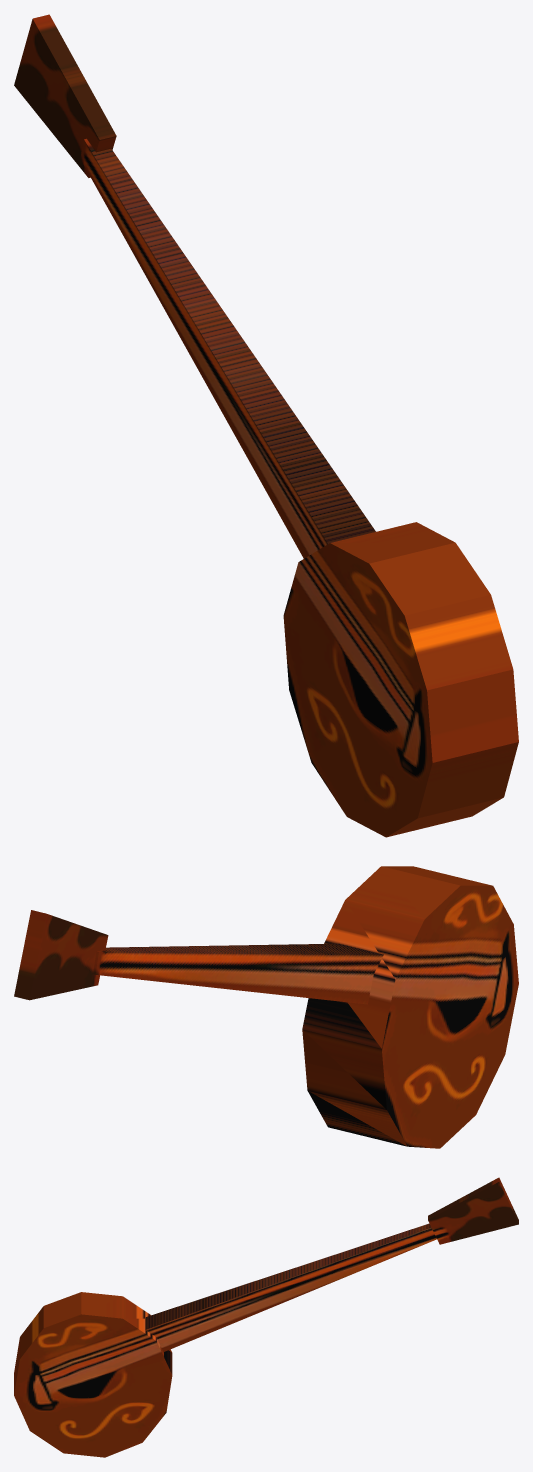
The model's file is mandolin.glb.
3 views of the same model, one above another, from view 1: azimuth 30°, elevation 25°; view 2: azimuth 150°, elevation 25°; view 3: azimuth 270°, elevation 25° (orthographic). The views are drawn at different scales.
Parts seen in each view (by area): view 1: mandolin; view 2: mandolin; view 3: mandolin.
Part boxes in pixels (left/top/right/bottom): mandolin: left=14, top=14, right=518, bottom=837; mandolin: left=14, top=866, right=518, bottom=1148; mandolin: left=14, top=1177, right=518, bottom=1457.
Size of the model in its own units: 10.31 by 58.54 by 98.27.
Materials: 1 (1 with a texture image).
